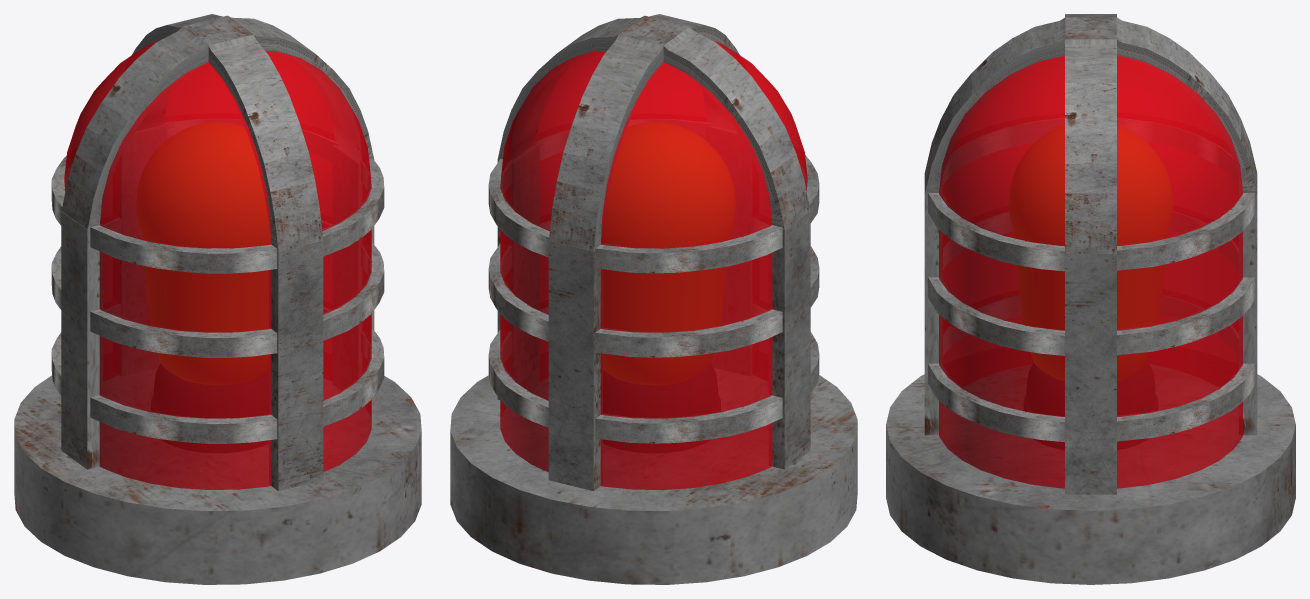
Rendered from AlarmWithLamp (FBX) 1K.fbx.
The picture shows the model from 3 angles, left to right: view 1: azimuth 30°, elevation 25°; view 2: azimuth 150°, elevation 25°; view 3: azimuth 270°, elevation 25°; orthographic projection.
Visible parts, largest first — view 1: Base, Glass Cylinder, Glass Sphere, Lamp, Base1, Base4Round.003, Base4Round.001, Base2, Base4, Round1Bottom, Round1Middle, Base3 (+13 smaller); view 2: Base, Glass Cylinder, Glass Sphere, Lamp, Base3, Base4Round.002, Base4Round.001, Base2, Base4, Base1, Round2Middle, Round2Bottom (+13 smaller); view 3: Base, Glass Cylinder, Glass Sphere, Lamp, Base4, Base4Round, Base4Round.003, Base4Round.002, Round3Middle, Round3Bottom, Round4Bottom, Round4Middle (+12 smaller).
Part boxes in pixels (x1,y1,x2,y2): Base: (14, 368, 421, 584); Glass Cylinder: (99, 153, 371, 489); Glass Sphere: (64, 41, 371, 248); Lamp: (136, 122, 270, 384); Base1: (269, 240, 323, 491); Base4Round.003: (208, 34, 323, 251); Base4Round.001: (61, 26, 208, 230); Base2: (61, 211, 102, 469); Base4: (333, 145, 374, 399); Round1Bottom: (90, 395, 277, 443); Round1Middle: (90, 309, 277, 357); Base3: (120, 125, 165, 375); Base: (450, 368, 857, 584); Glass Cylinder: (500, 152, 772, 489); Glass Sphere: (500, 41, 807, 248); Lamp: (601, 123, 735, 384); Base3: (548, 240, 602, 491); Base4Round.002: (549, 34, 663, 251); Base4Round.001: (663, 26, 810, 229); Base2: (769, 211, 810, 469); Base4: (497, 145, 538, 399); Base1: (706, 126, 751, 375); Round2Middle: (595, 309, 782, 357); Round2Bottom: (595, 395, 782, 443); Base: (886, 364, 1295, 584); Glass Cylinder: (939, 142, 1242, 488); Glass Sphere: (939, 55, 1242, 246); Lamp: (1009, 125, 1172, 380); Base4: (1065, 254, 1116, 494); Base4Round: (1065, 39, 1116, 253); Base4Round.003: (924, 17, 1065, 195); Base4Round.002: (1116, 17, 1257, 194); Round3Middle: (1117, 277, 1255, 355); Round3Bottom: (1117, 363, 1255, 441); Round4Bottom: (928, 363, 1064, 442); Round4Middle: (928, 277, 1064, 355).
Size of the model in its own units: 200 by 253 by 200.
4 materials, 2 textured.
